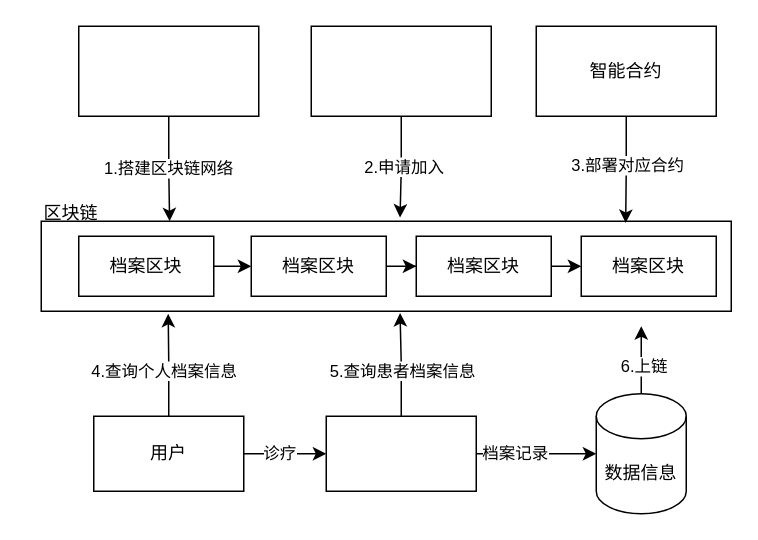
Image size: 758x540. Some labels were removed from this diagram. Here are the shapes that lost their labels. From the top down, the box of each, then its label:
(77, 25, 259, 116): 管理员
(310, 25, 491, 116): 医院
(325, 415, 476, 491): 医生
